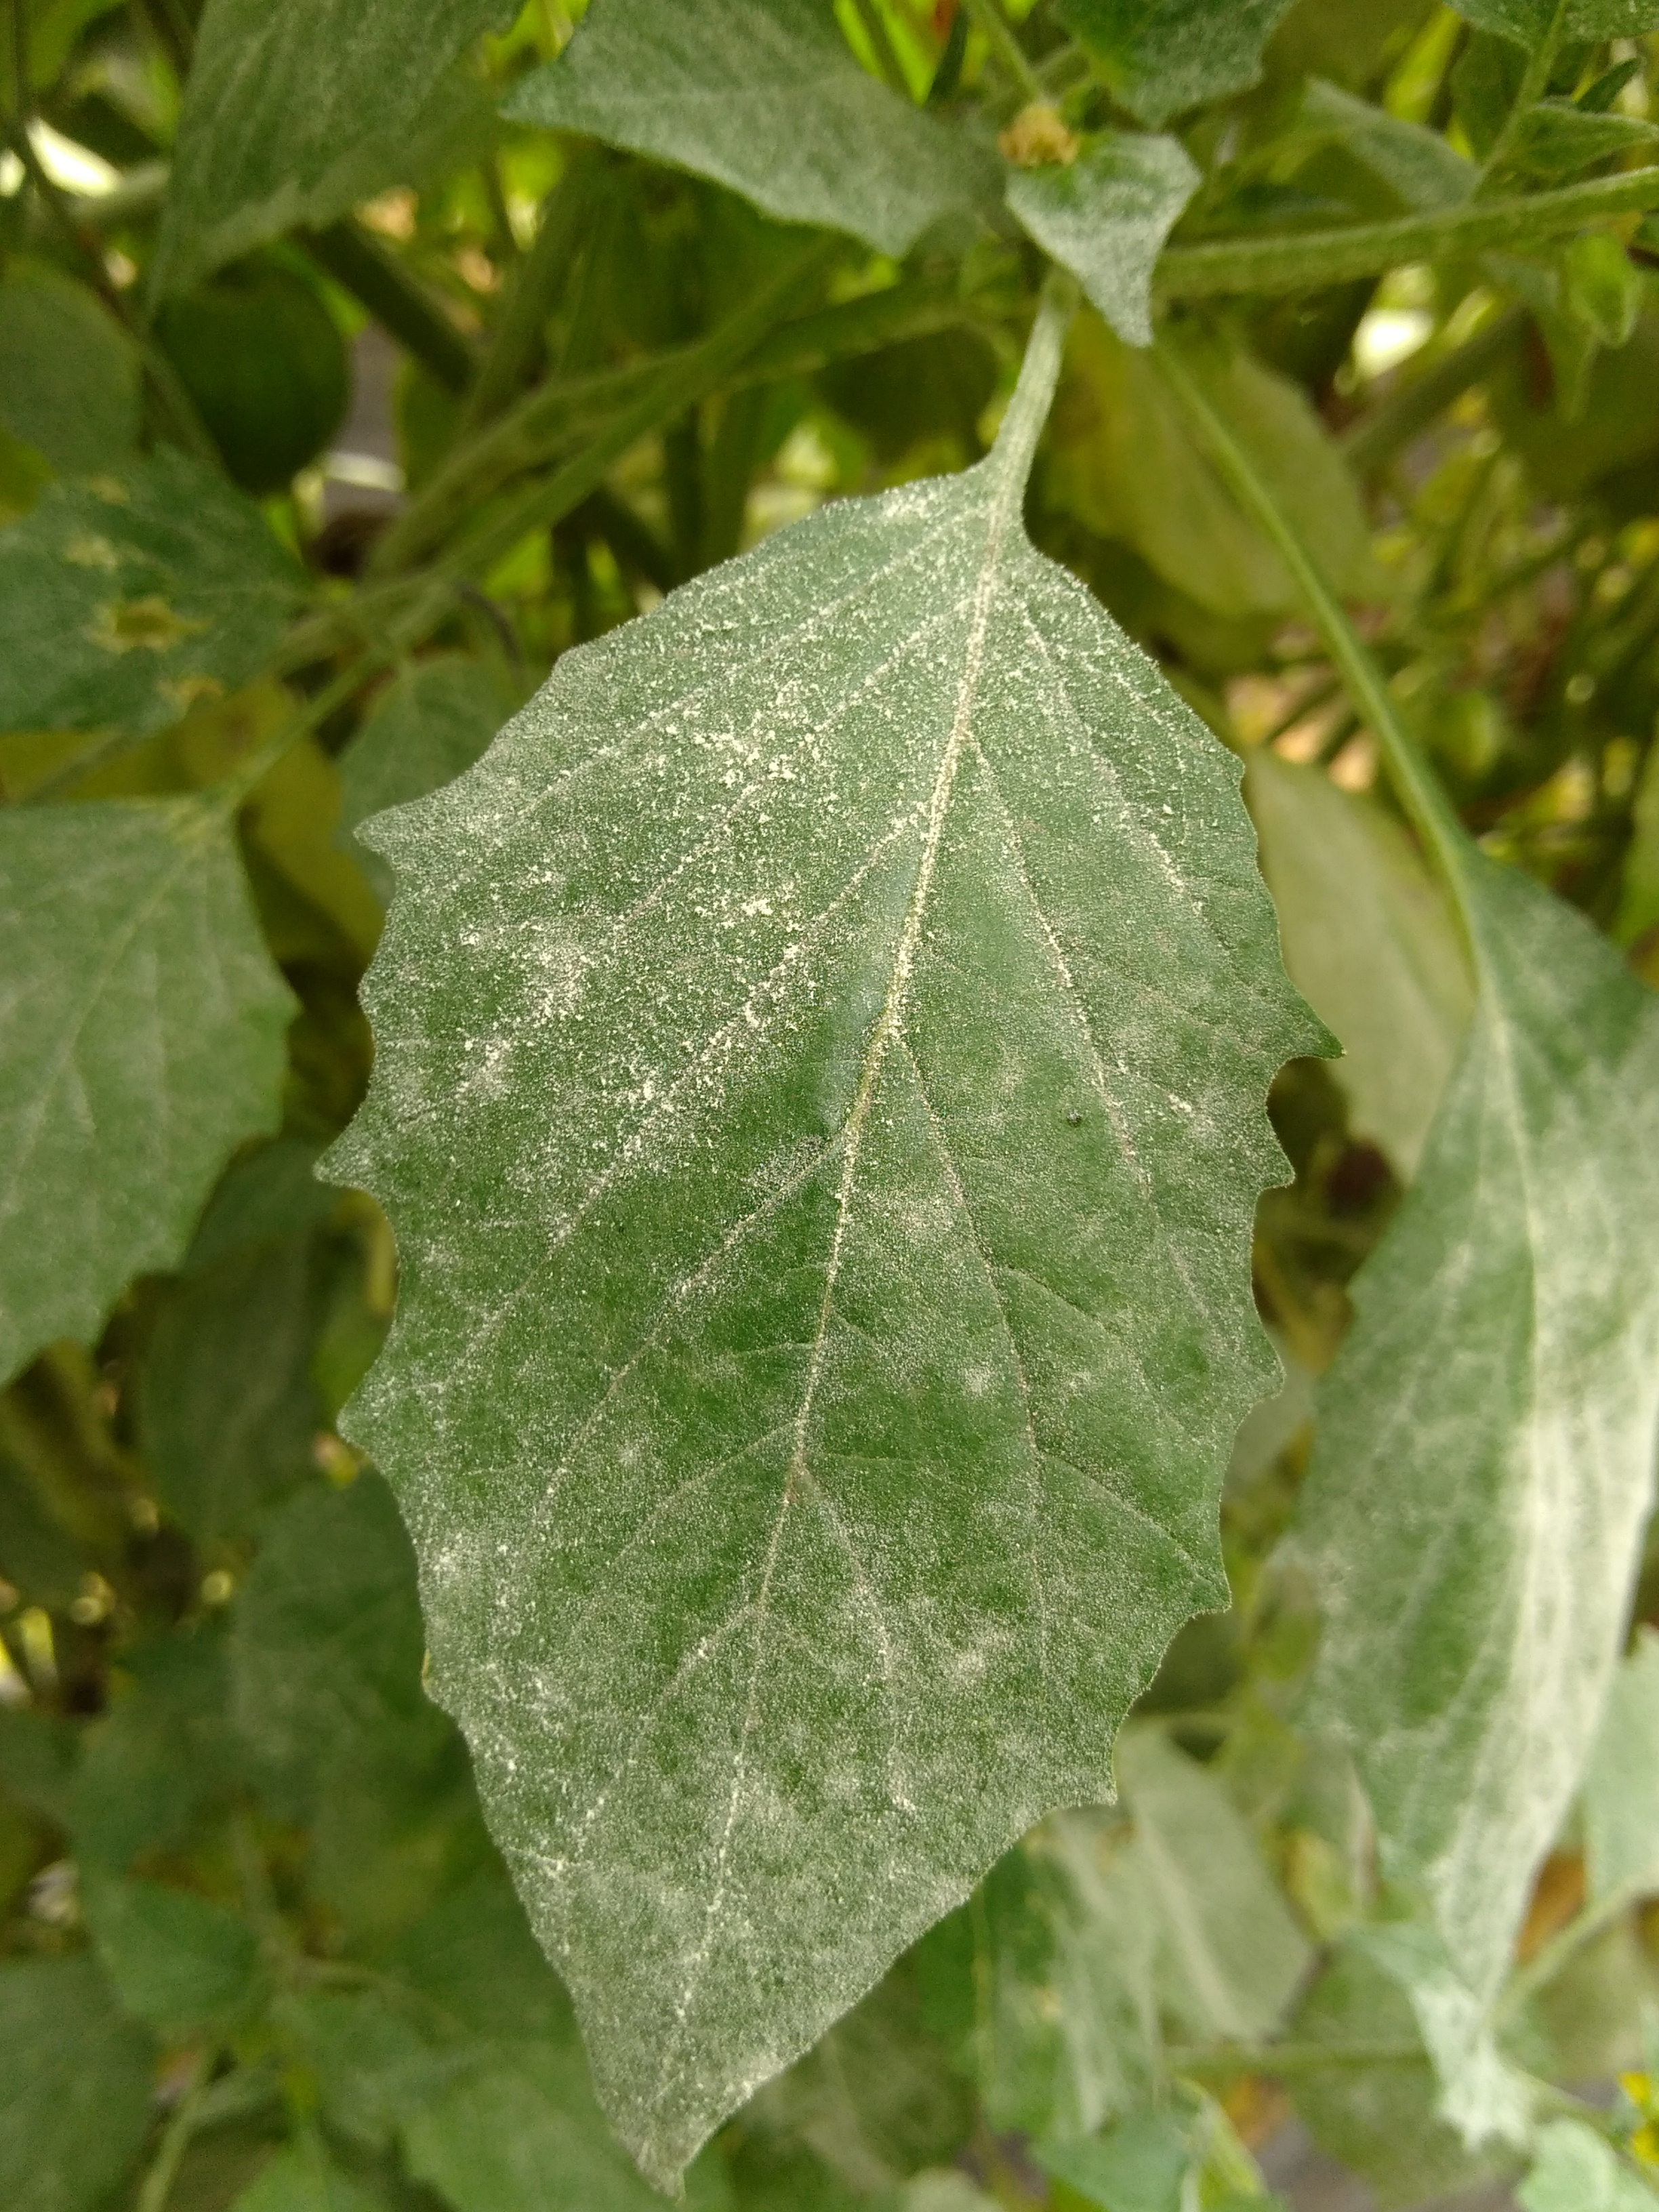blanca: (570, 904, 817, 1181), (918, 1599, 1030, 1719)
